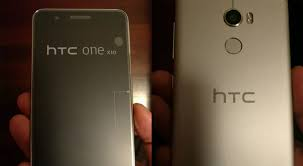htc: (169, 1, 298, 166), (27, 7, 140, 166)
